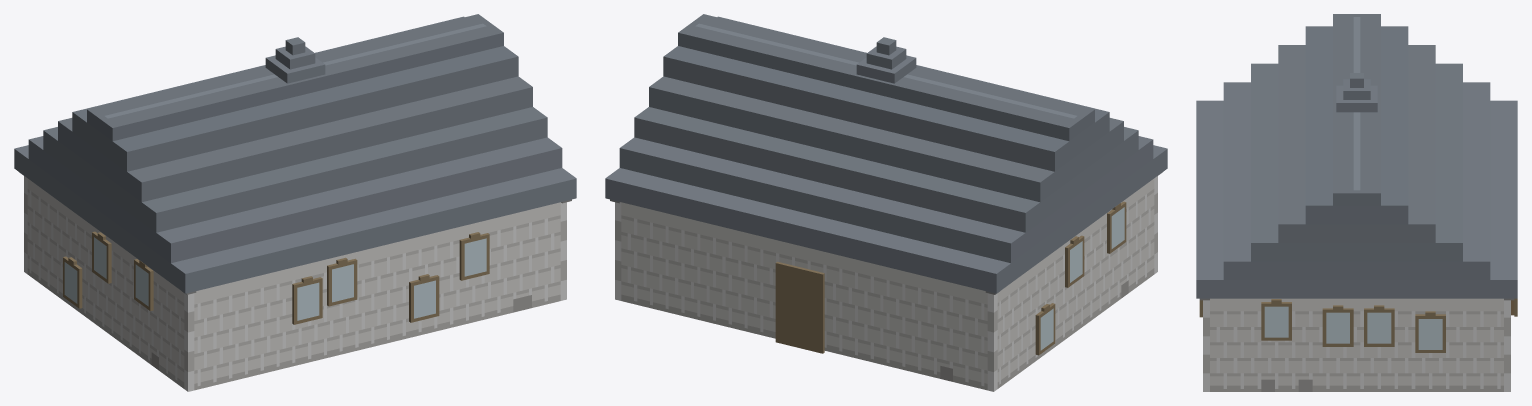
Rendered from mausoleo_03.glb.
3 renders of one model, left to right at view 1: azimuth 30°, elevation 25°; view 2: azimuth 150°, elevation 25°; view 3: azimuth 270°, elevation 25°, orthographic. The views are drawn at different scales.
Parts seen in each view (by area): view 1: mausoleo_03; view 2: mausoleo_03; view 3: mausoleo_03.
Part boxes in pixels (x1,y1,x2,y2): mausoleo_03: (14,14,576,391); mausoleo_03: (605,14,1167,391); mausoleo_03: (1196,14,1517,391).
Size of the model in its own units: 12.4 by 7.4 by 9.4.
